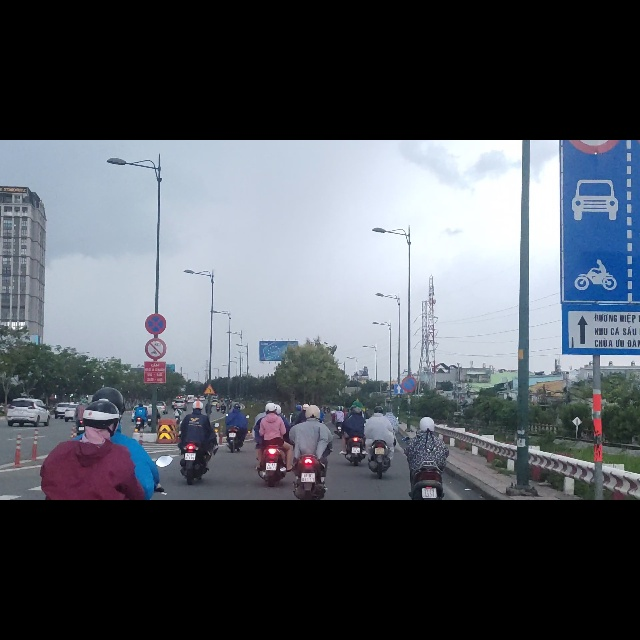bien_chi_dan: (562, 16, 640, 297), (145, 353, 167, 391), (145, 309, 167, 345), (402, 420, 418, 447), (204, 433, 215, 452), (394, 433, 403, 452)
